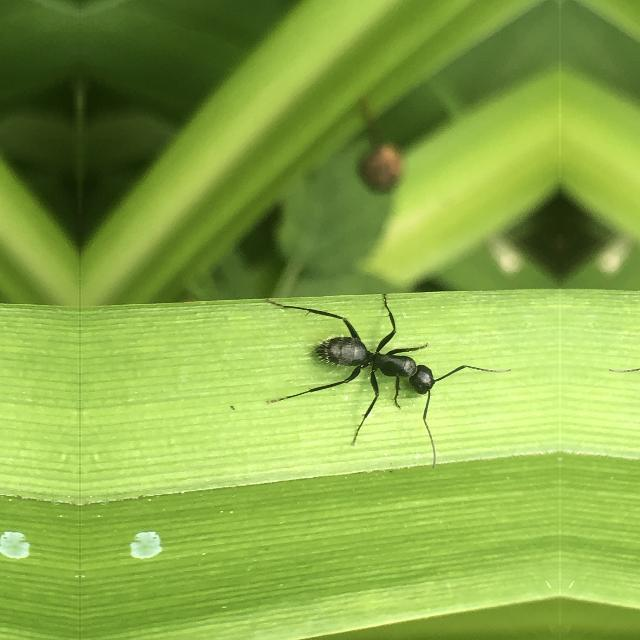Camponotus: (308, 292, 454, 431)
